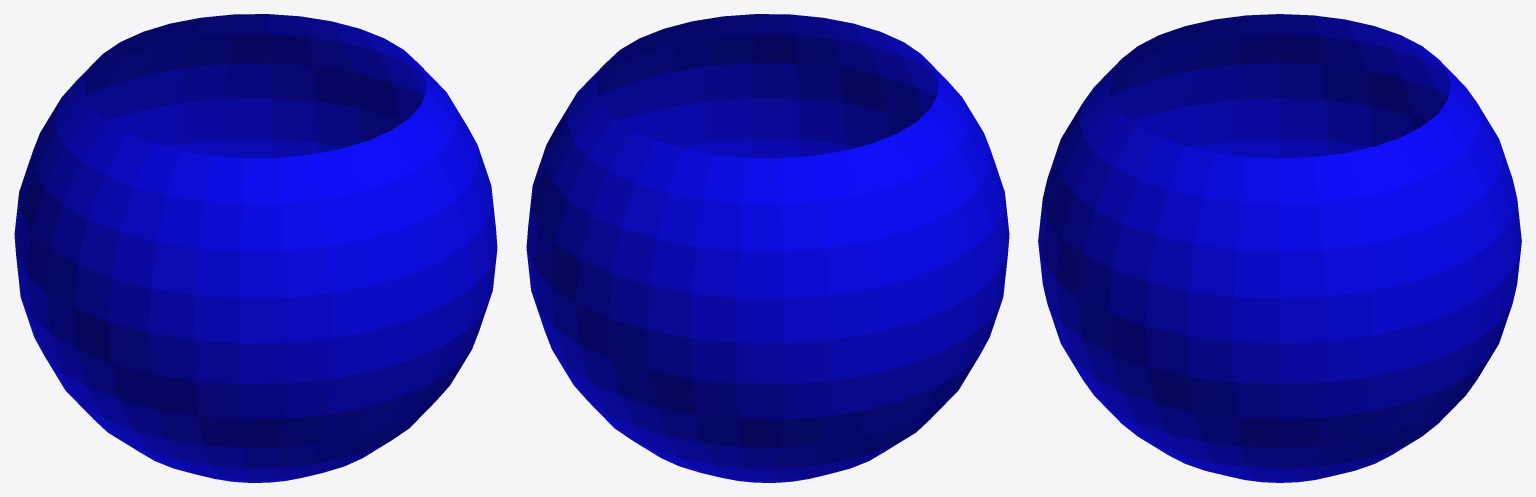
The model's file is bl_sphere_bag_basic_000.obj.
3 renders of one model, left to right at view 1: azimuth 30°, elevation 25°; view 2: azimuth 150°, elevation 25°; view 3: azimuth 270°, elevation 25°, orthographic.
Parts seen in each view (by area): view 1: Sphere; view 2: Sphere; view 3: Sphere.
Part boxes in pixels (x1,y1,x2,y2): Sphere: [14, 14, 497, 482]; Sphere: [526, 14, 1009, 482]; Sphere: [1038, 14, 1521, 482].
Bounding box in the file's own units: 1.6 × 1.37 × 1.6.
